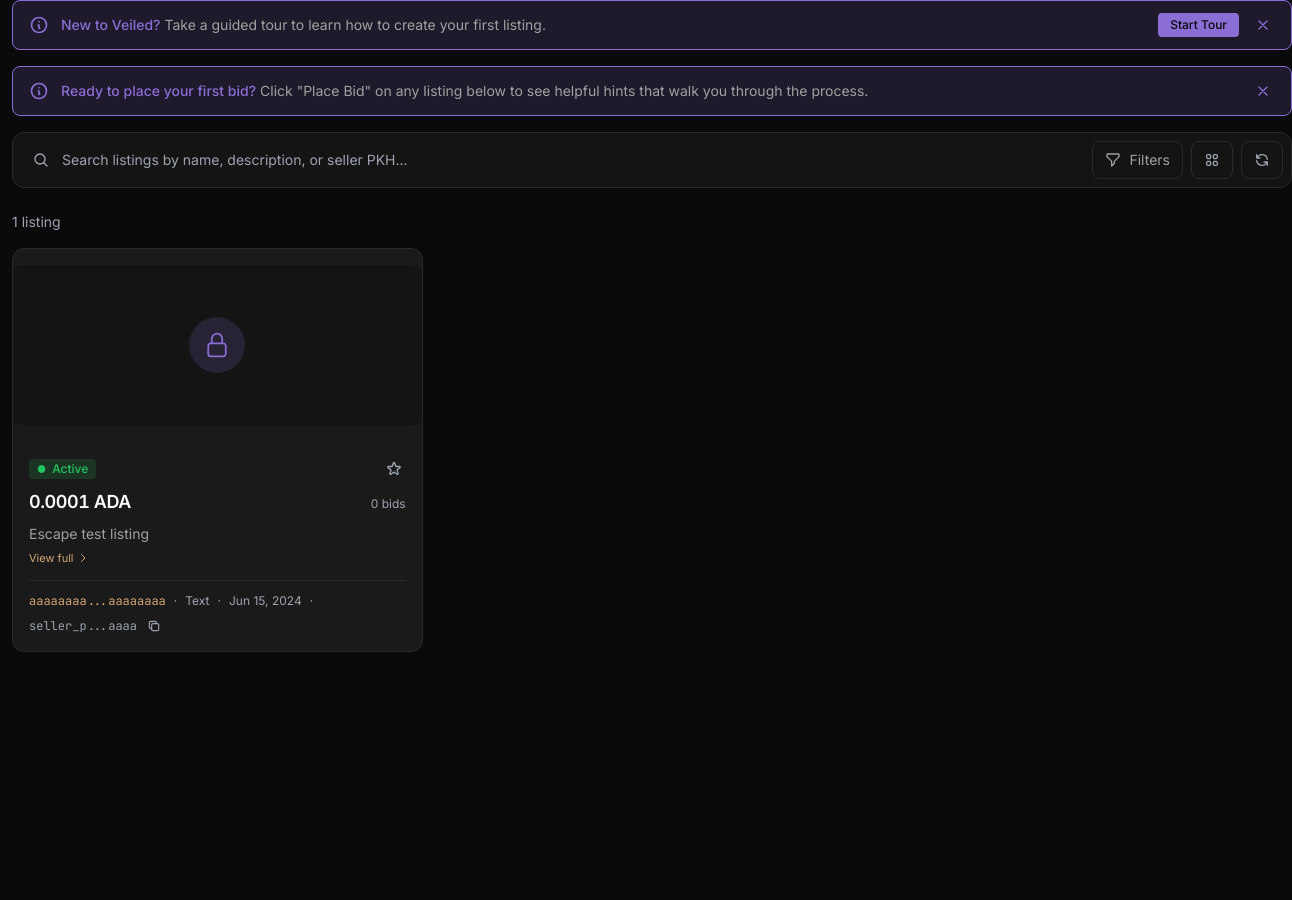
it: MarketplaceTab › closes filters panel on Escape key
The width and height of the screenshot is (1292, 900).
Expected: the text "Escape test listing" is shown, [29,525,149,542]
Note: Open filters
Step 1. Click the button "Filters" → (1138, 160), box [1092,141,1183,179]
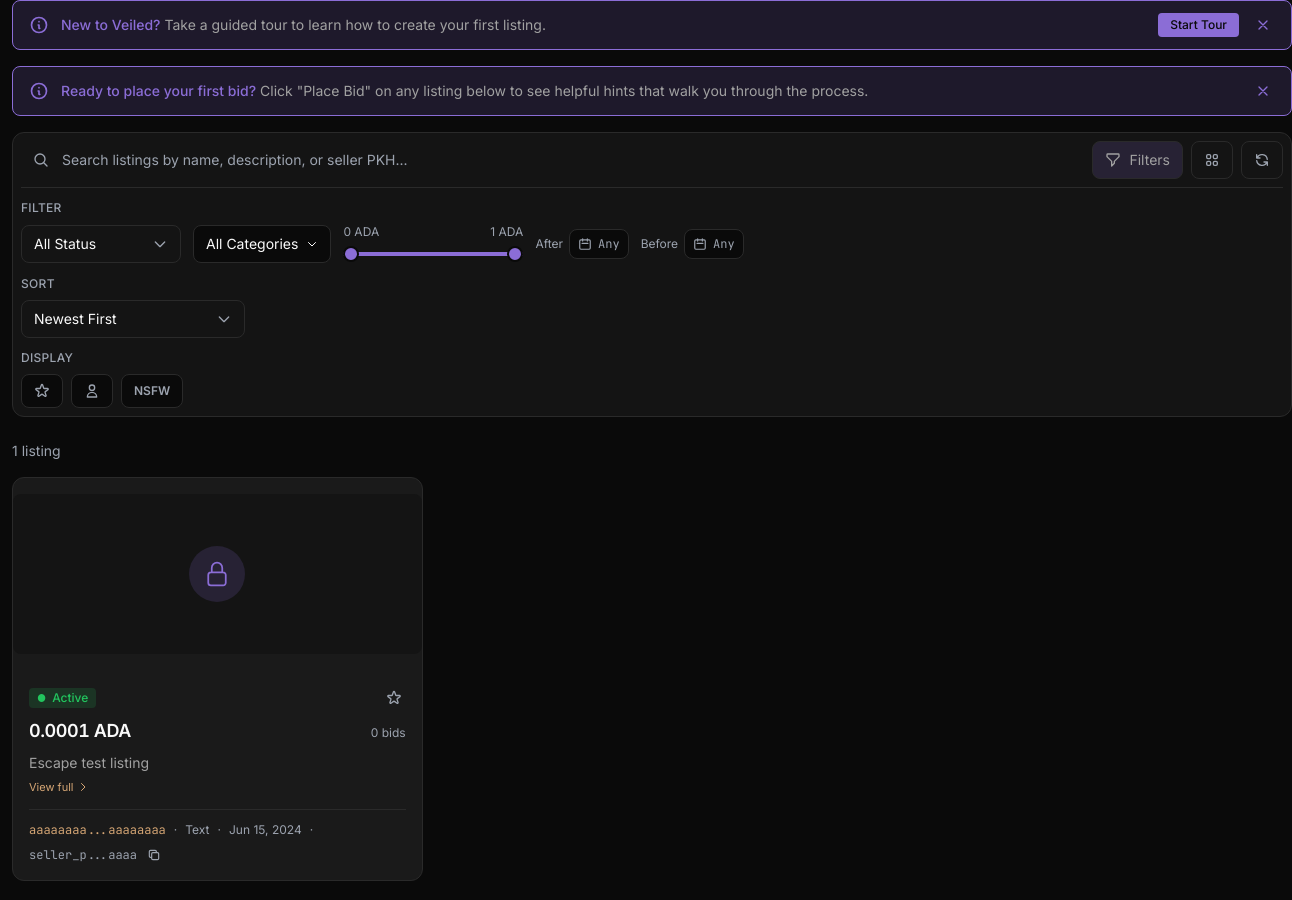
Result: the button "Filters" is expanded at [1092,141,1183,179]
Note: Press Escape to close
Step 2. Press Escape
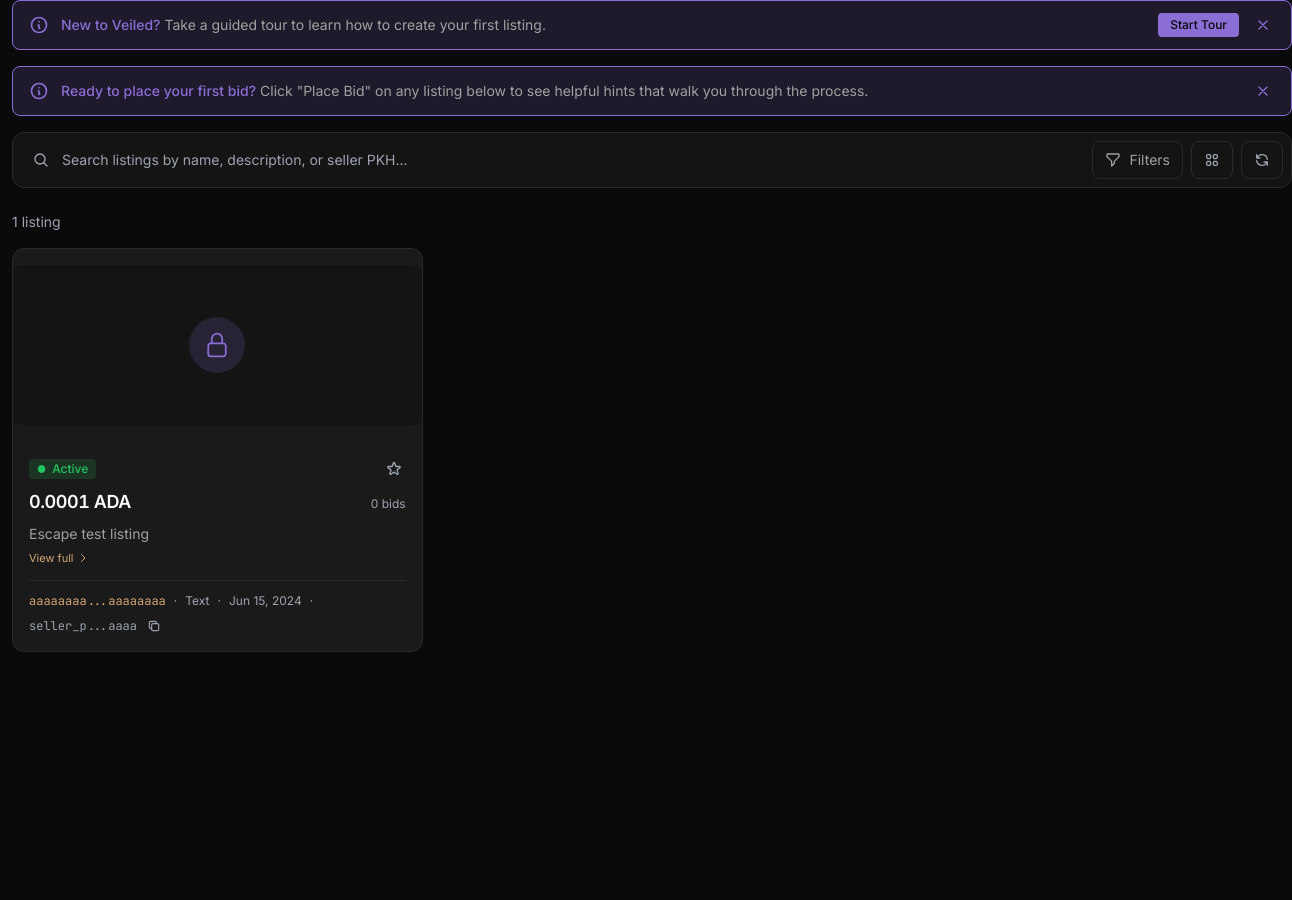
Result: the button "Filters" is collapsed at [1092,141,1183,179]
